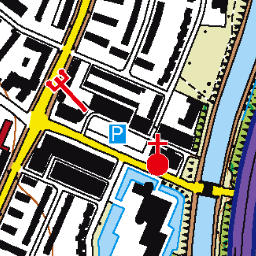church: (143, 131, 171, 178)
